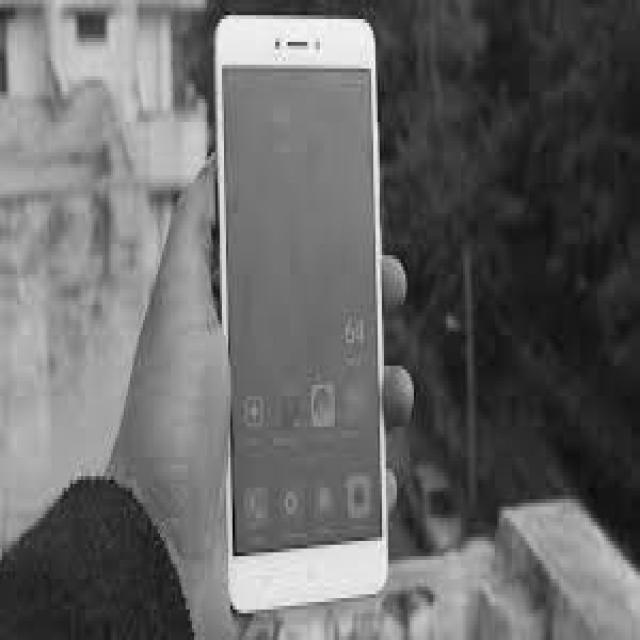No gun_phone: (216, 16, 387, 614)
